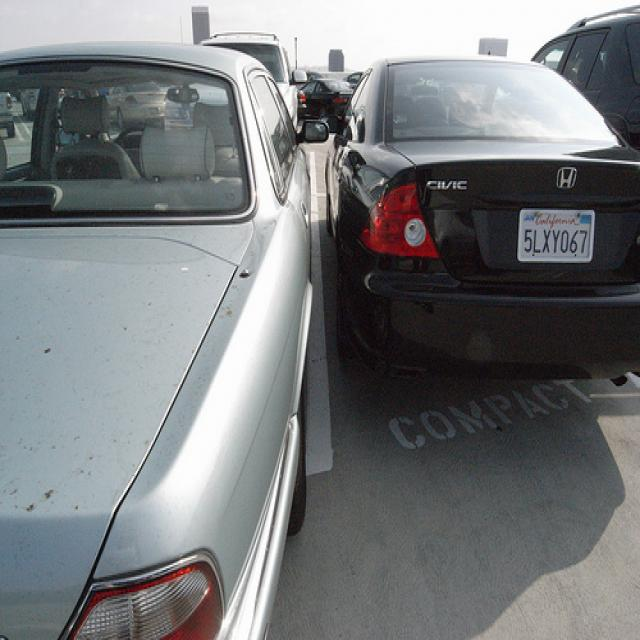Car: (0, 27, 312, 638), (324, 29, 640, 370)
